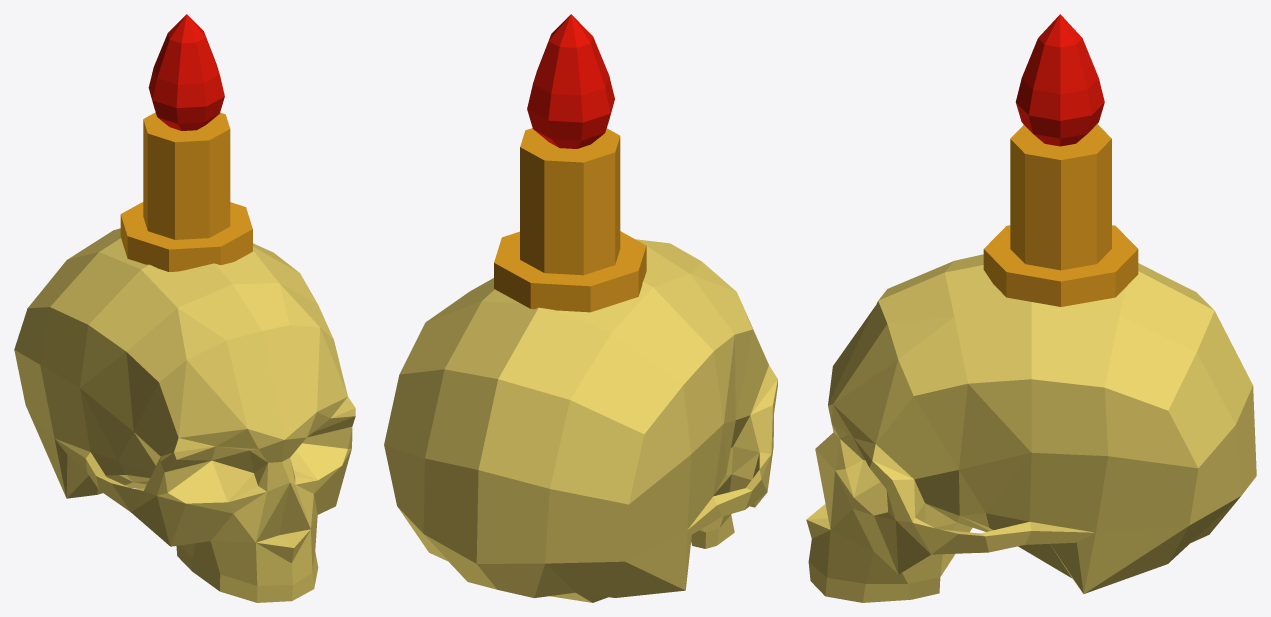
The model's file is SkullCandle.fbx.
3 views of the same model, side by side, from view 1: azimuth 30°, elevation 25°; view 2: azimuth 150°, elevation 25°; view 3: azimuth 270°, elevation 25° (orthographic). The views are drawn at different scales.
Visible parts, largest first — view 1: Cube.004; view 2: Cube.004; view 3: Cube.004.
Boxes of the visible parts, x1,y1,x2,y2 form: Cube.004: [14, 14, 355, 602]; Cube.004: [384, 14, 777, 602]; Cube.004: [806, 14, 1256, 602].
Size of the model in its own units: 0.2417 by 0.4849 by 0.3474.
